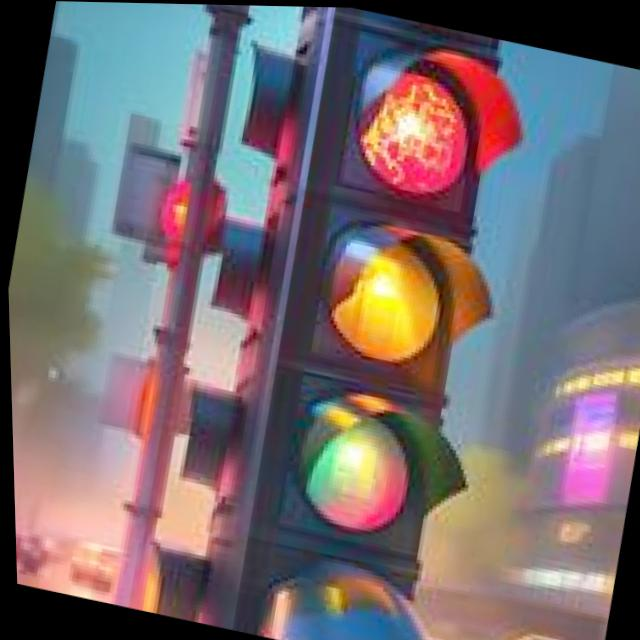red_light: (278, 5, 534, 233)
yellow_light: (263, 180, 557, 448)
